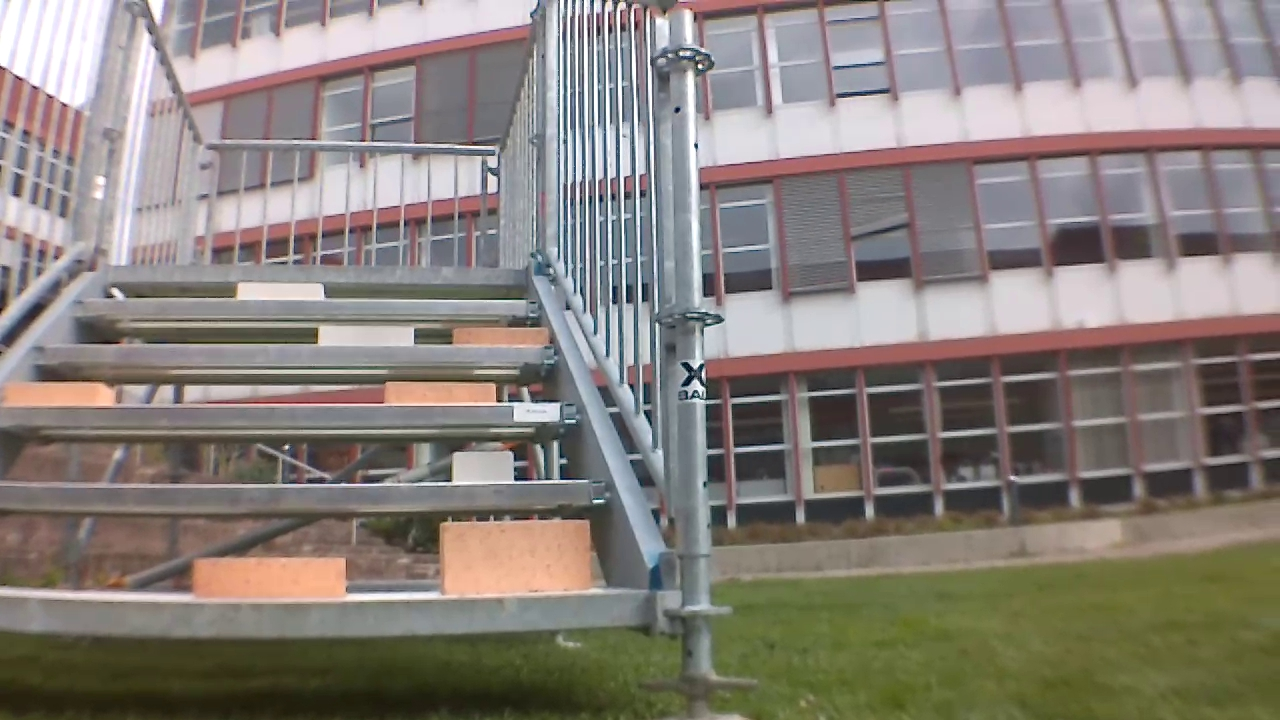brick: (433, 514, 592, 595), (188, 557, 352, 601), (0, 376, 118, 408), (377, 378, 501, 403), (309, 321, 413, 346), (451, 326, 555, 351), (451, 444, 521, 480), (241, 279, 323, 301)
edge: (0, 595, 664, 635), (0, 478, 610, 520), (0, 399, 587, 426), (63, 294, 555, 319), (22, 342, 580, 362), (106, 258, 540, 283)
stairs: (0, 0, 695, 696)
steps: (0, 261, 653, 649)
